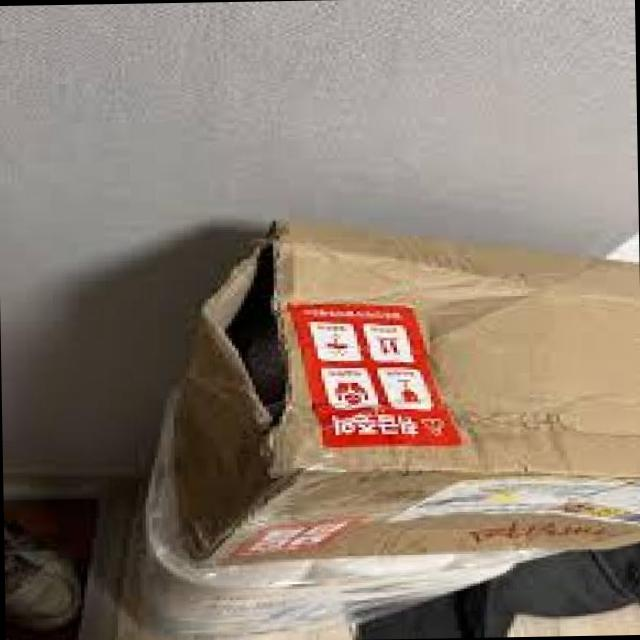box: (140, 220, 639, 639)
crushed: (386, 258, 531, 422), (409, 405, 638, 478)
opened: (208, 222, 302, 447)
